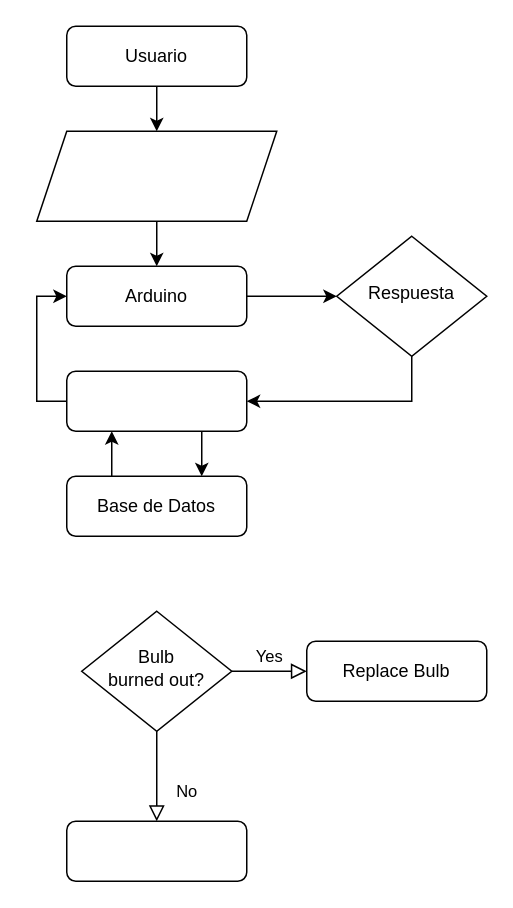
This 513x908 diagram has some shape labels left out. Here are the shapes that lost their labels. From the top down, the centre of each, then its label:
At pixel 156 175: "Ritmo cardiaco y concentracion de oxigeno en la sangre".
At pixel 156 400: "Ordenador".
At pixel 156 850: "Repair Lamp".
